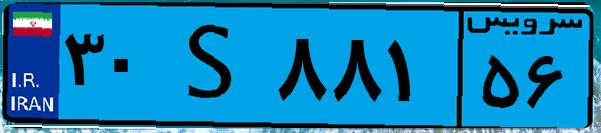0: (110, 28, 158, 98)
1: (385, 28, 445, 110)
3: (57, 26, 110, 100)
5: (475, 38, 525, 113)
6: (525, 38, 570, 115)
8: (270, 28, 330, 110), (330, 28, 385, 110)
S: (158, 12, 270, 120)
